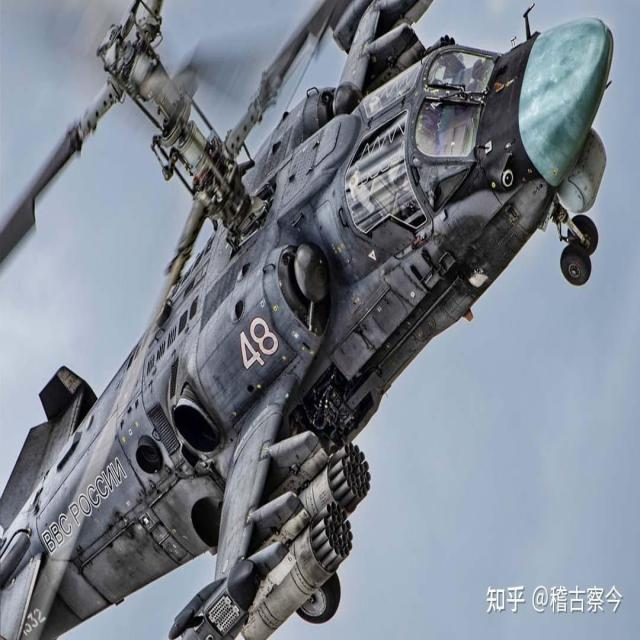MIL_HELO: (2, 0, 622, 640)
